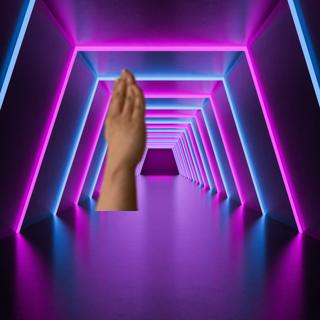RIGHT: (100, 65, 151, 176)
